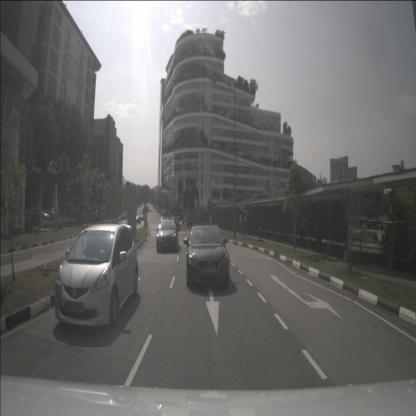human-pedestrian-adult: (315, 207, 324, 254), (299, 211, 307, 248), (239, 211, 244, 234)
vehicle-car: (55, 223, 138, 330), (186, 224, 230, 286), (156, 219, 178, 252), (31, 208, 49, 221), (44, 208, 60, 219), (172, 216, 180, 231), (134, 216, 140, 224)
